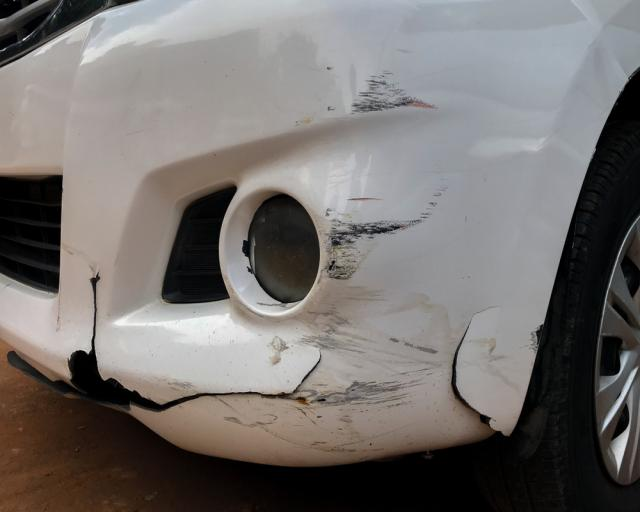crack: (68, 271, 321, 412), (451, 305, 505, 435)
scratch: (269, 183, 455, 455), (346, 69, 439, 115)
